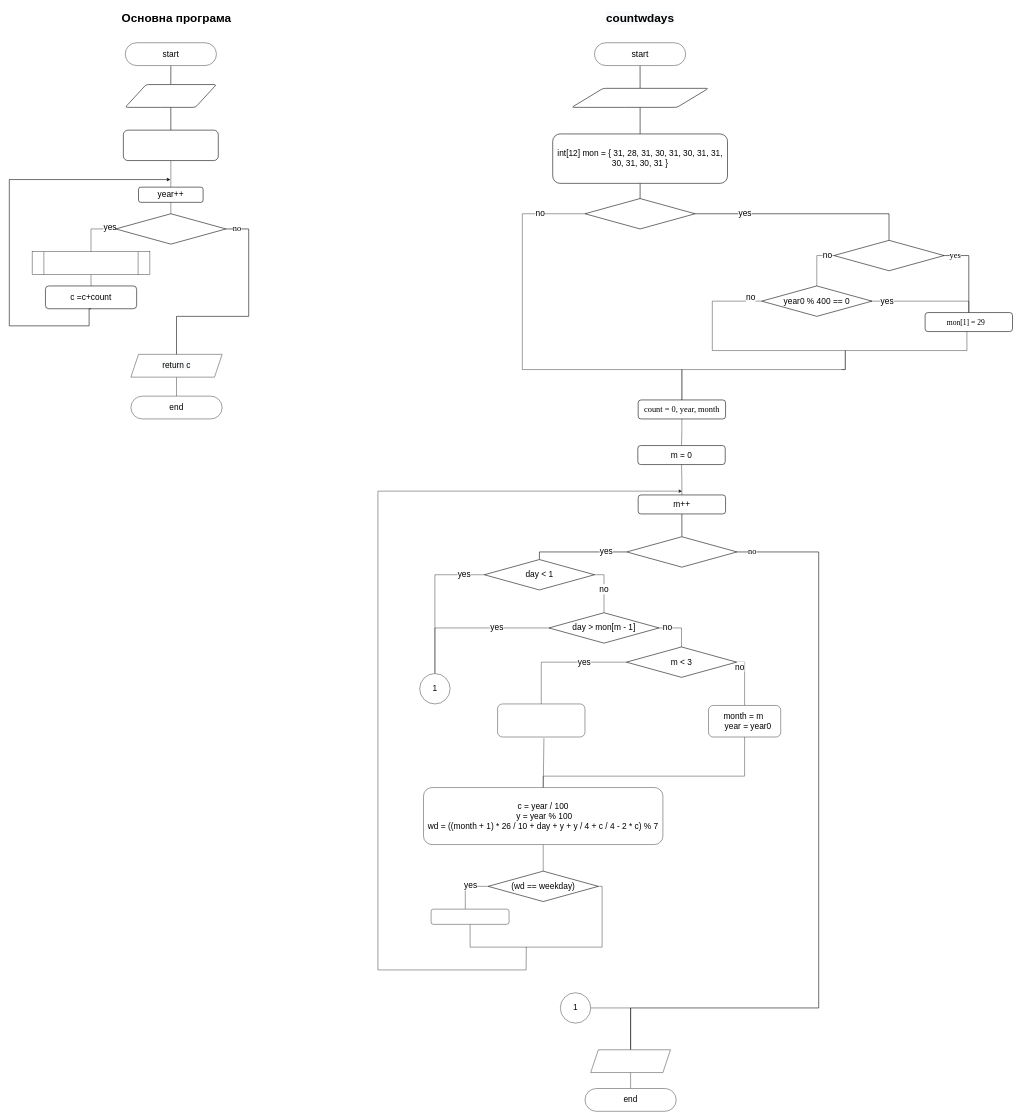
Image size: 1020x1118. Some labels were removed from this diagram. The box of each missing label's shape, as (x1, y1, x2, y2) in pixels:
c = 0 year = fr -1: (123, 130, 218, 161)
count = count + 1: (431, 909, 509, 924)
countwdays(year,6,13): (32, 251, 150, 275)
fr, to є N: (125, 84, 217, 107)
m<13: (626, 536, 737, 567)
month = m + 12 year = year0 - 1: (497, 704, 585, 737)
return count: (590, 1049, 671, 1073)
year0 % 100 != 0: (833, 240, 944, 271)
year0 % 4 == 0: (585, 198, 695, 229)
year0, weekday, day є N: (571, 88, 709, 107)
year<to: (115, 213, 226, 244)
